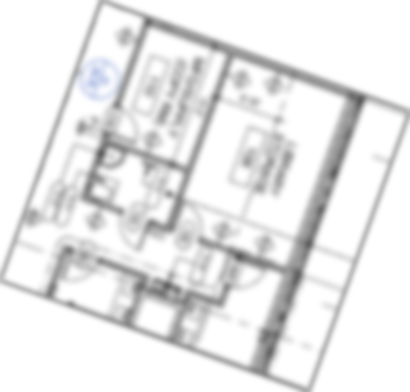door: (115, 204, 153, 252), (221, 255, 270, 291), (168, 199, 206, 244), (60, 246, 102, 285), (105, 104, 143, 146)
